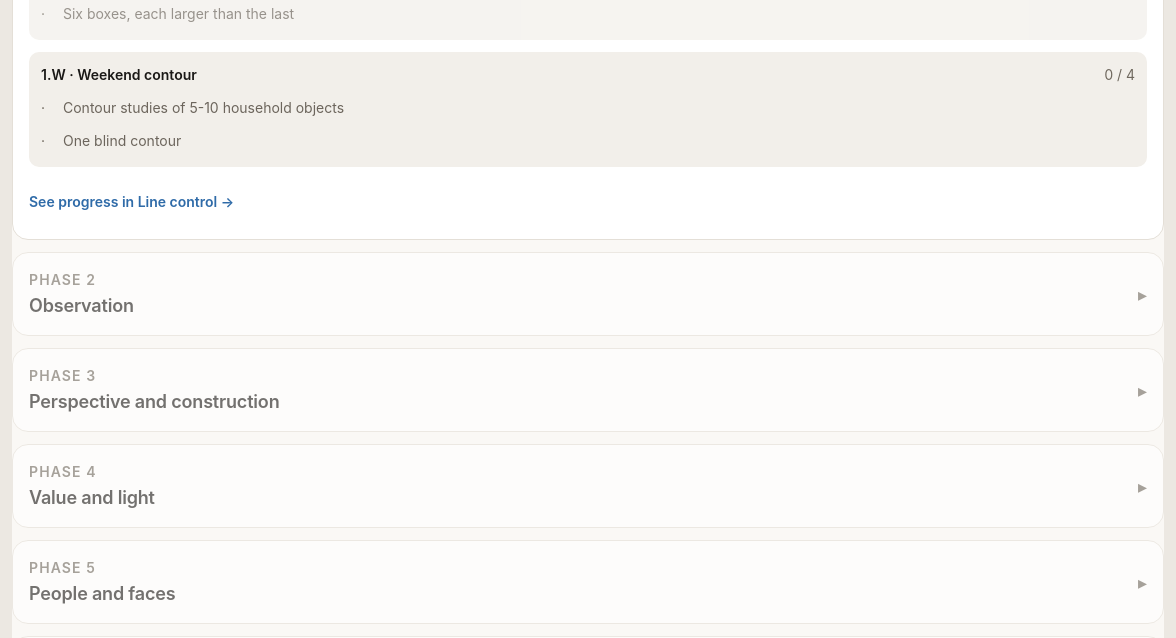
Path › never hides, locks, or blurs a future phase — its content renders in the DOM
(page scrolled)
Click the button "PHASE 5 People and faces ▸". click: (58, 568)
box: [13,541,1163,623]
(page scrolled)
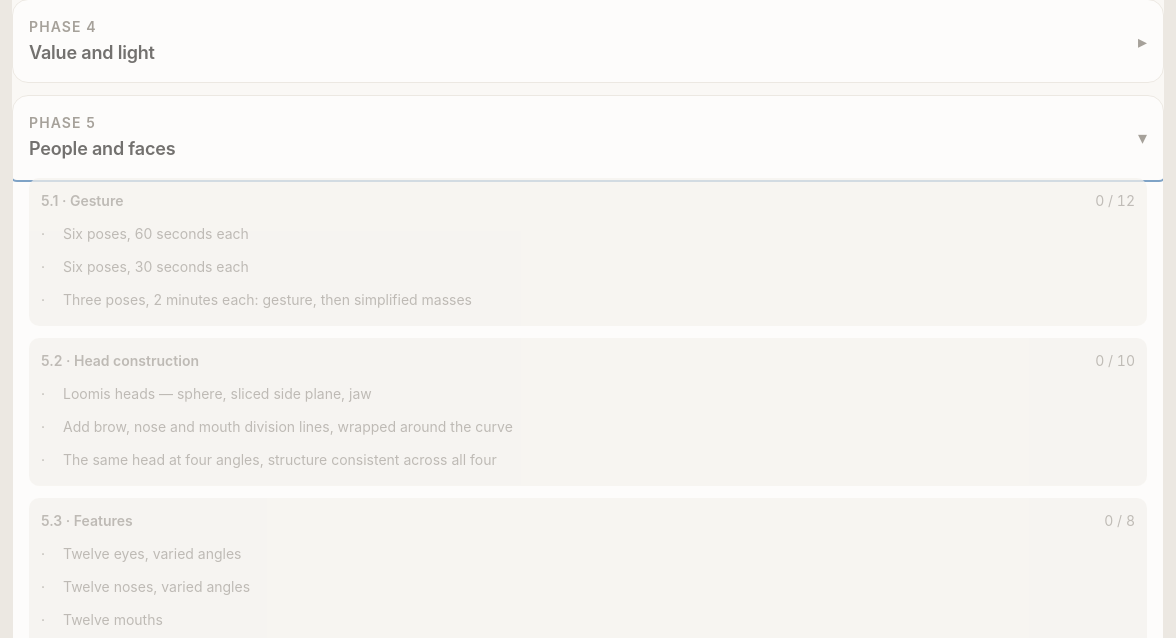
Now the text "5.1 · Gesture" is shown, box [41,190,123,211]
Now the text "5.2 · Head construction" is shown, box [41,350,199,371]
